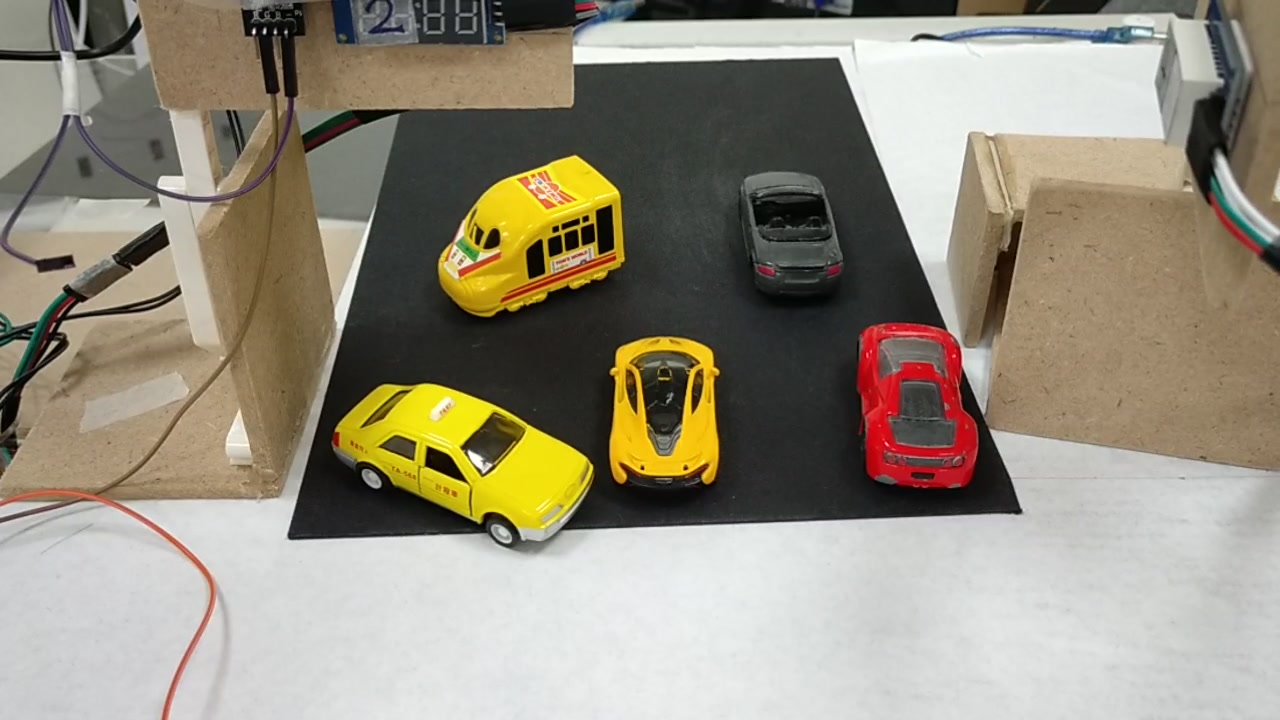car: (345, 378, 593, 553), (860, 324, 975, 493), (610, 330, 713, 482), (735, 172, 847, 301)
